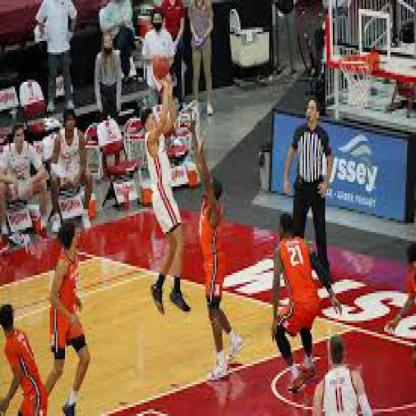basketball: (153, 54, 171, 78)
rim: (339, 54, 377, 74)
